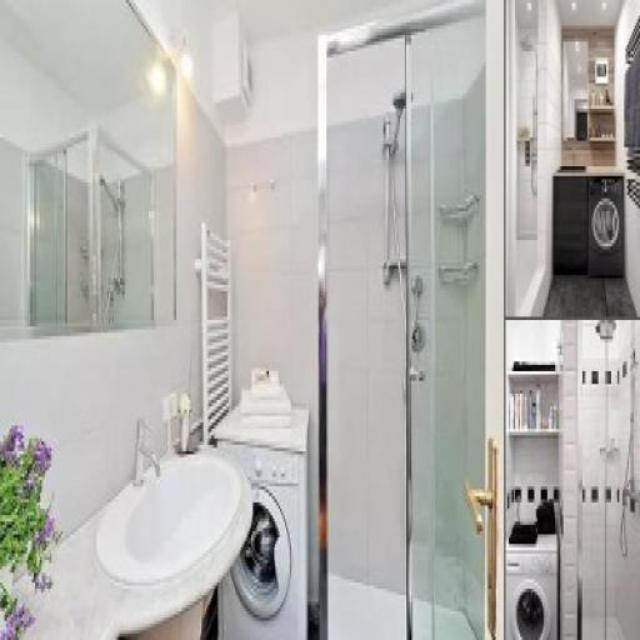Washing-Machine: (216, 403, 310, 639), (504, 532, 560, 638), (589, 173, 621, 279)
